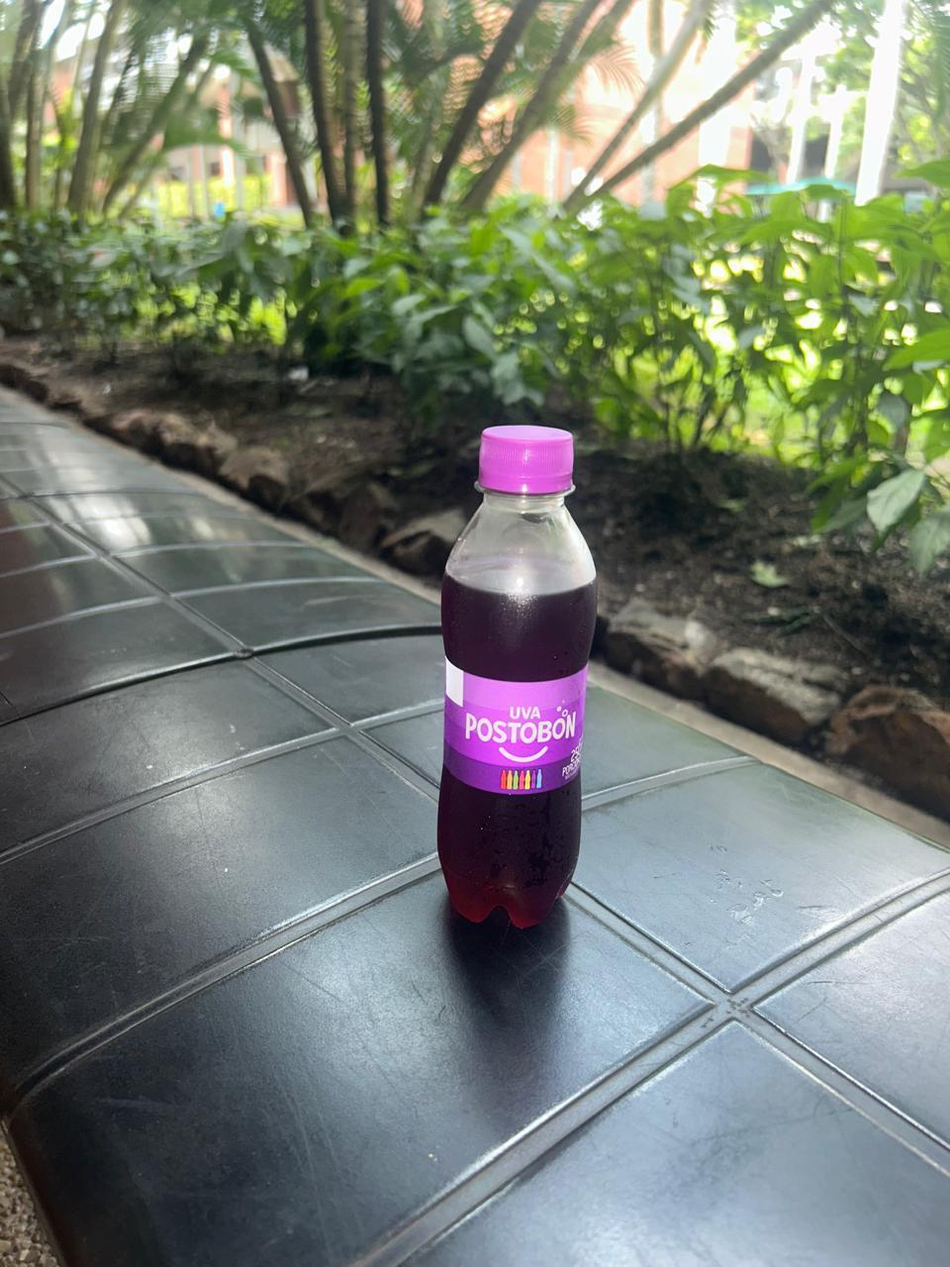uva: (437, 426, 596, 927)
